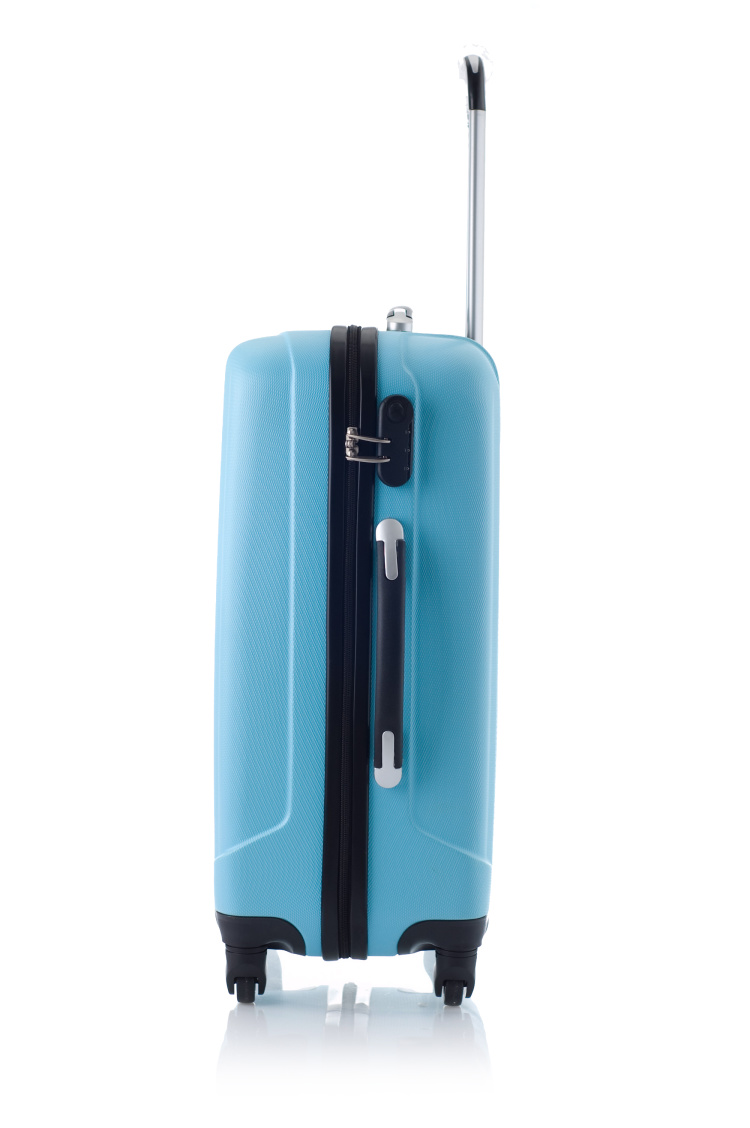luggage: (212, 54, 500, 1005)
